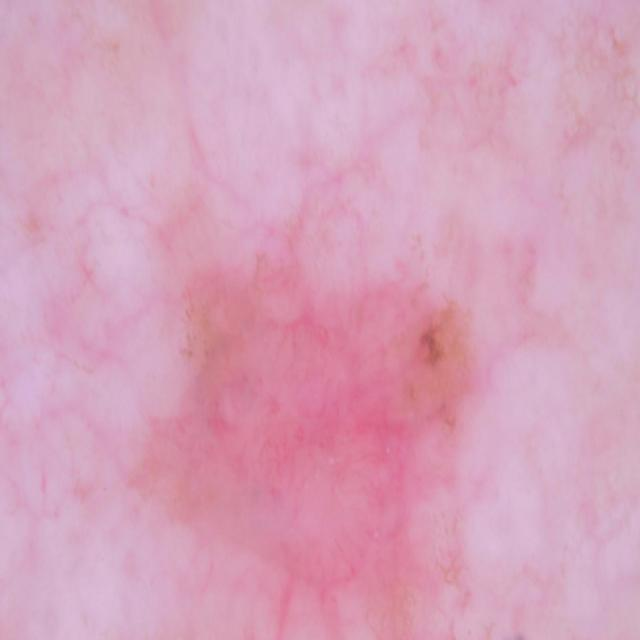Carcinoma: (158, 228, 569, 640)
